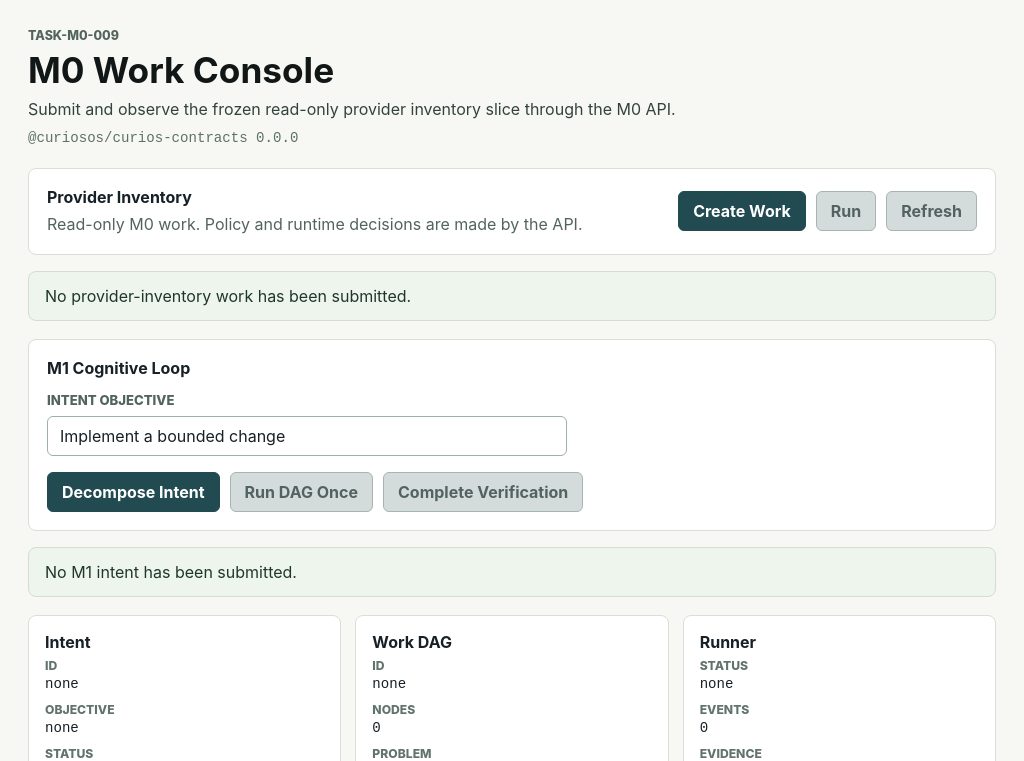
Test: TASK-M0-009 web work console › does not let stale observation responses overwrite newly selected work
Click the button "Create Work".
click(742, 211)  # box [678, 191, 806, 231]
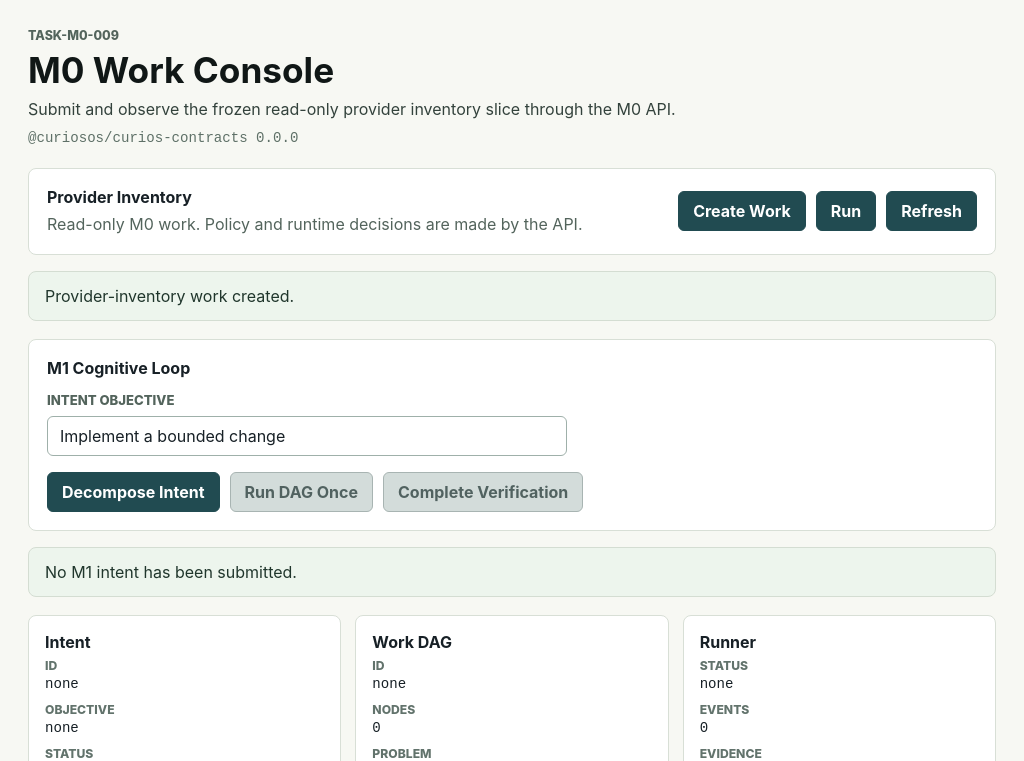
Click the button "Run".
click(846, 211)  # box [816, 191, 876, 231]
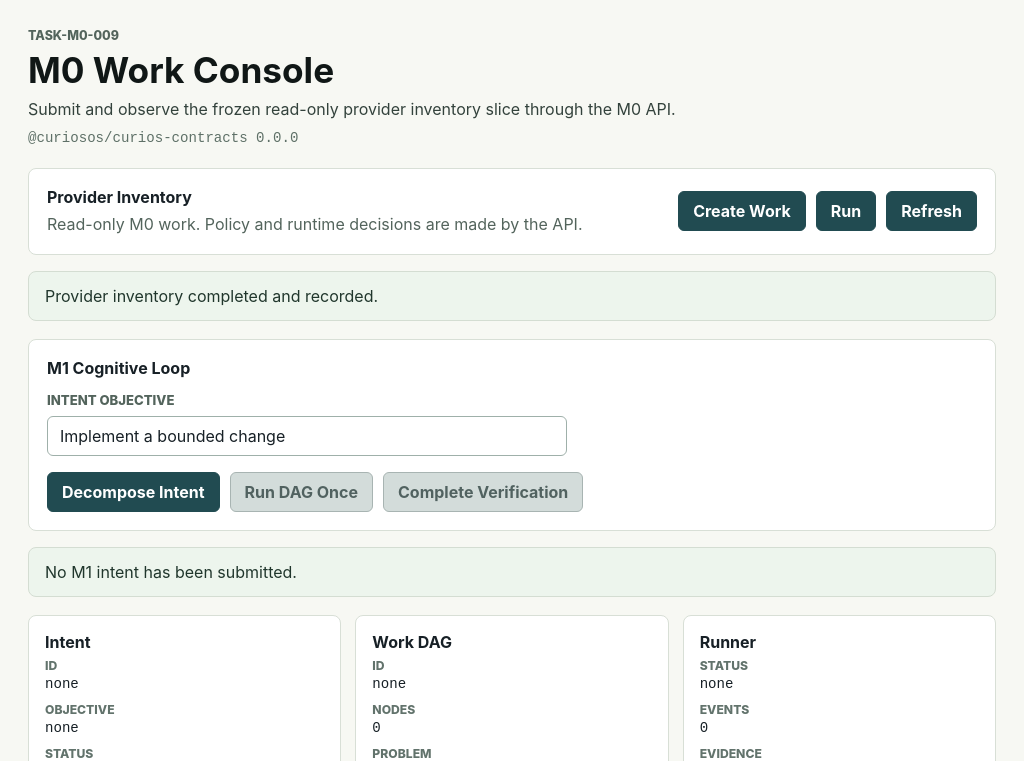
Click the button "Refresh".
click(932, 211)  # box [886, 191, 977, 231]
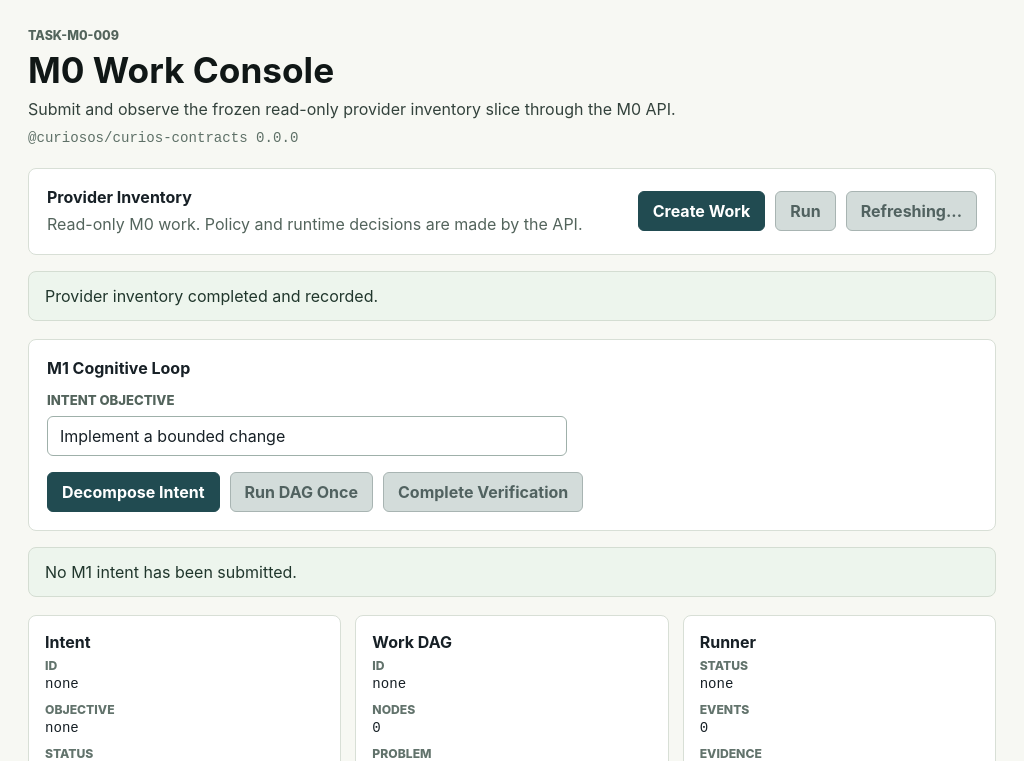
Click the button "Create Work".
click(702, 211)  # box [638, 191, 765, 231]
(page scrolled)
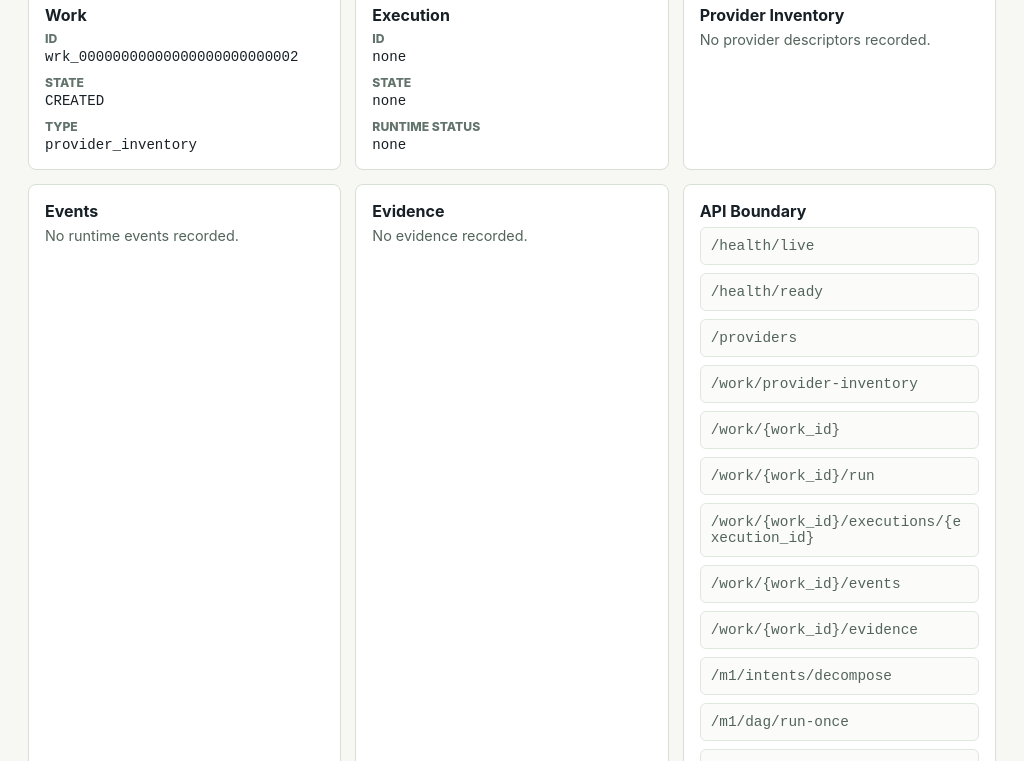
Expected: the list item "/work/provider-inventory" is shown, [700, 365, 979, 403]
Now the text "wrk_00000000000000000000000002" is shown, box [45, 49, 324, 65]
